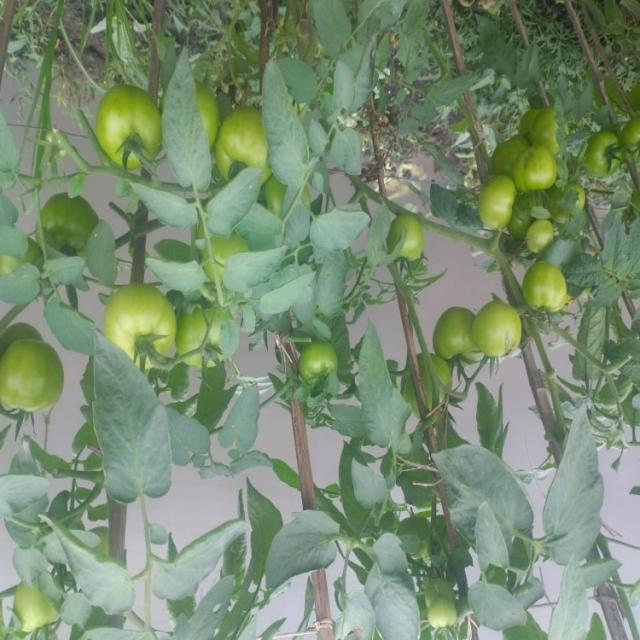tomato: (105, 287, 191, 378), (93, 77, 156, 175), (1, 324, 65, 406), (380, 213, 439, 281), (469, 295, 531, 358), (204, 109, 266, 165), (513, 261, 570, 319), (513, 143, 566, 196), (430, 304, 483, 356), (520, 92, 564, 154), (481, 181, 522, 240), (418, 589, 473, 626), (1, 591, 53, 630), (297, 341, 344, 382), (488, 126, 521, 180), (582, 128, 614, 173), (523, 217, 559, 252)
